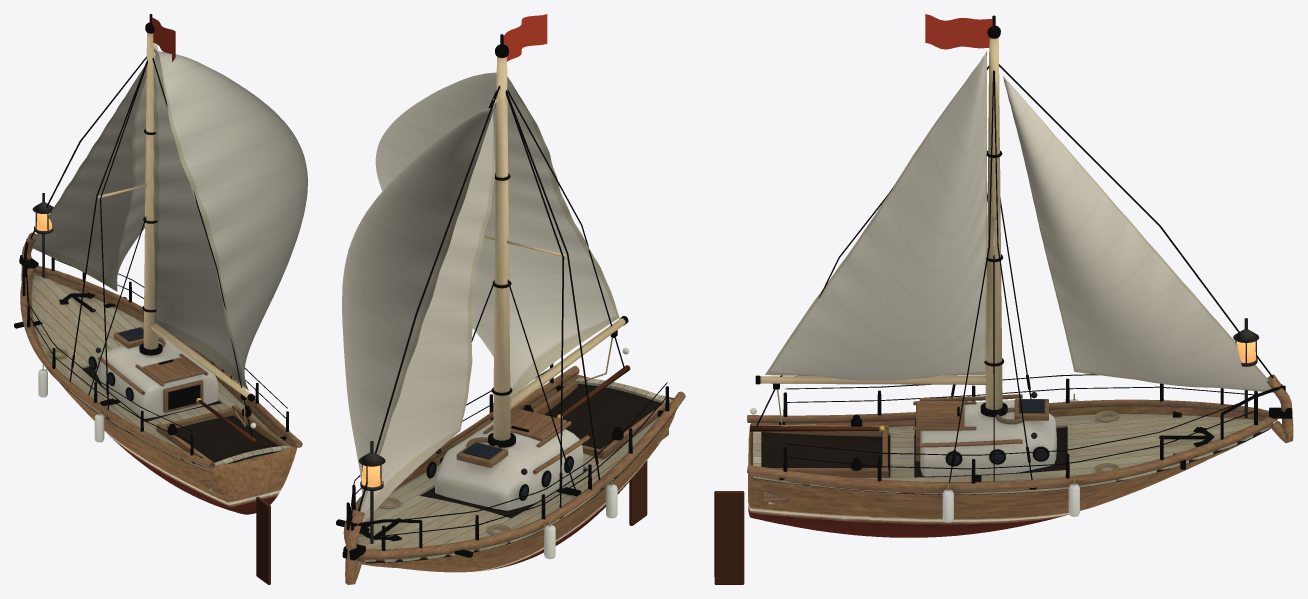
Rendered from boat-realistic.glb.
The picture shows the model from 3 angles, left to right: view 1: azimuth 30°, elevation 25°; view 2: azimuth 150°, elevation 25°; view 3: azimuth 270°, elevation 25°; orthographic projection. The views are drawn at different scales.
Parts seen in each view (by area): view 1: Boat_Body, Sail_Main, Sail_Jib, Rudder, Flag; view 2: Boat_Body, Sail_Jib, Sail_Main, Flag, Rudder, Tiller; view 3: Boat_Body, Sail_Main, Sail_Jib, Rudder, Flag.
Boxes of the visible parts, x1,y1,x2,y2 form: Boat_Body: (14, 14, 302, 514); Sail_Main: (152, 44, 307, 390); Sail_Jib: (32, 62, 146, 291); Rudder: (256, 496, 270, 584); Flag: (151, 17, 175, 61); Boat_Body: (336, 34, 685, 584); Sail_Jib: (342, 98, 498, 522); Sail_Main: (375, 72, 619, 397); Flag: (503, 14, 547, 61); Rudder: (629, 460, 647, 525); Tiller: (562, 365, 630, 417); Boat_Body: (747, 15, 1293, 537); Sail_Main: (765, 50, 986, 380); Sail_Jib: (1003, 75, 1273, 392); Rudder: (714, 491, 744, 584); Flag: (925, 14, 992, 49).
Bounding box in the file's own units: 2.45 × 5.47 × 5.05.
Materials: 8 (3 with a texture image).
